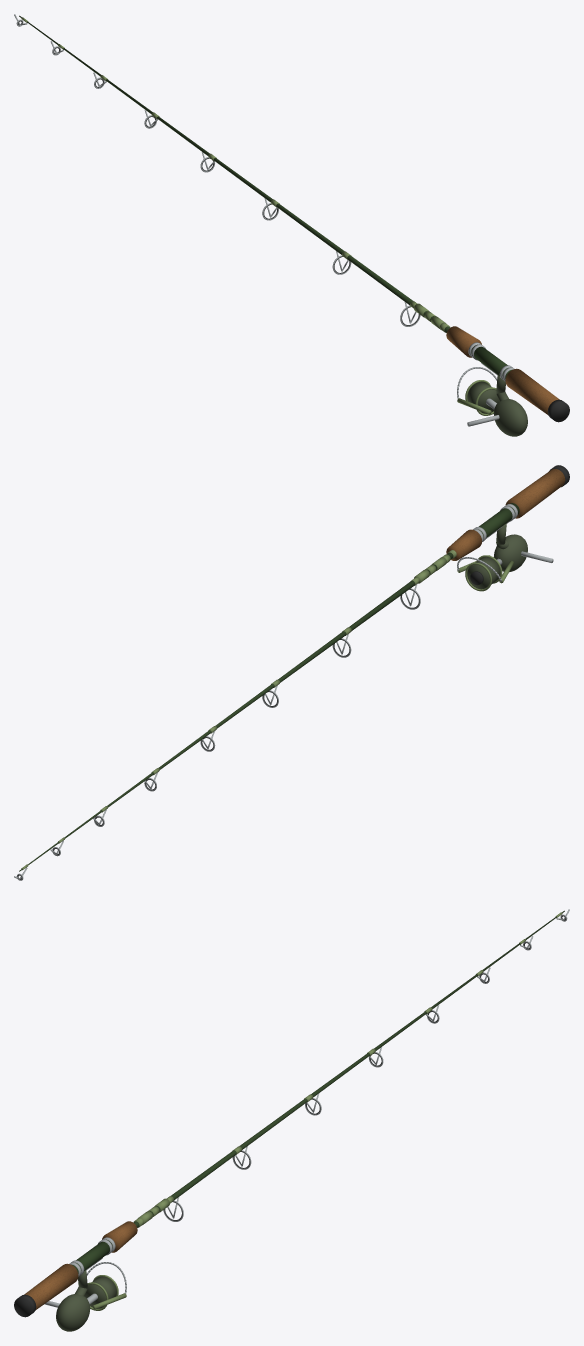
File: willow.glb
3 renders of one model, top to bottom at view 1: azimuth 30°, elevation 25°; view 2: azimuth 150°, elevation 25°; view 3: azimuth 330°, elevation 25°, orthographic.
Parts seen in each view (by area): view 1: Tapered carbon blank; view 2: Tapered carbon blank; view 3: Tapered carbon blank.
Boxes of the visible parts, x1,y1,x2,y2 form: Tapered carbon blank: (14, 14, 569, 436); Tapered carbon blank: (14, 465, 569, 880); Tapered carbon blank: (14, 909, 569, 1331).
Size of the model in its own units: 0.1318 by 0.1315 by 1.91.
Materials: 8 (1 with a texture image).
